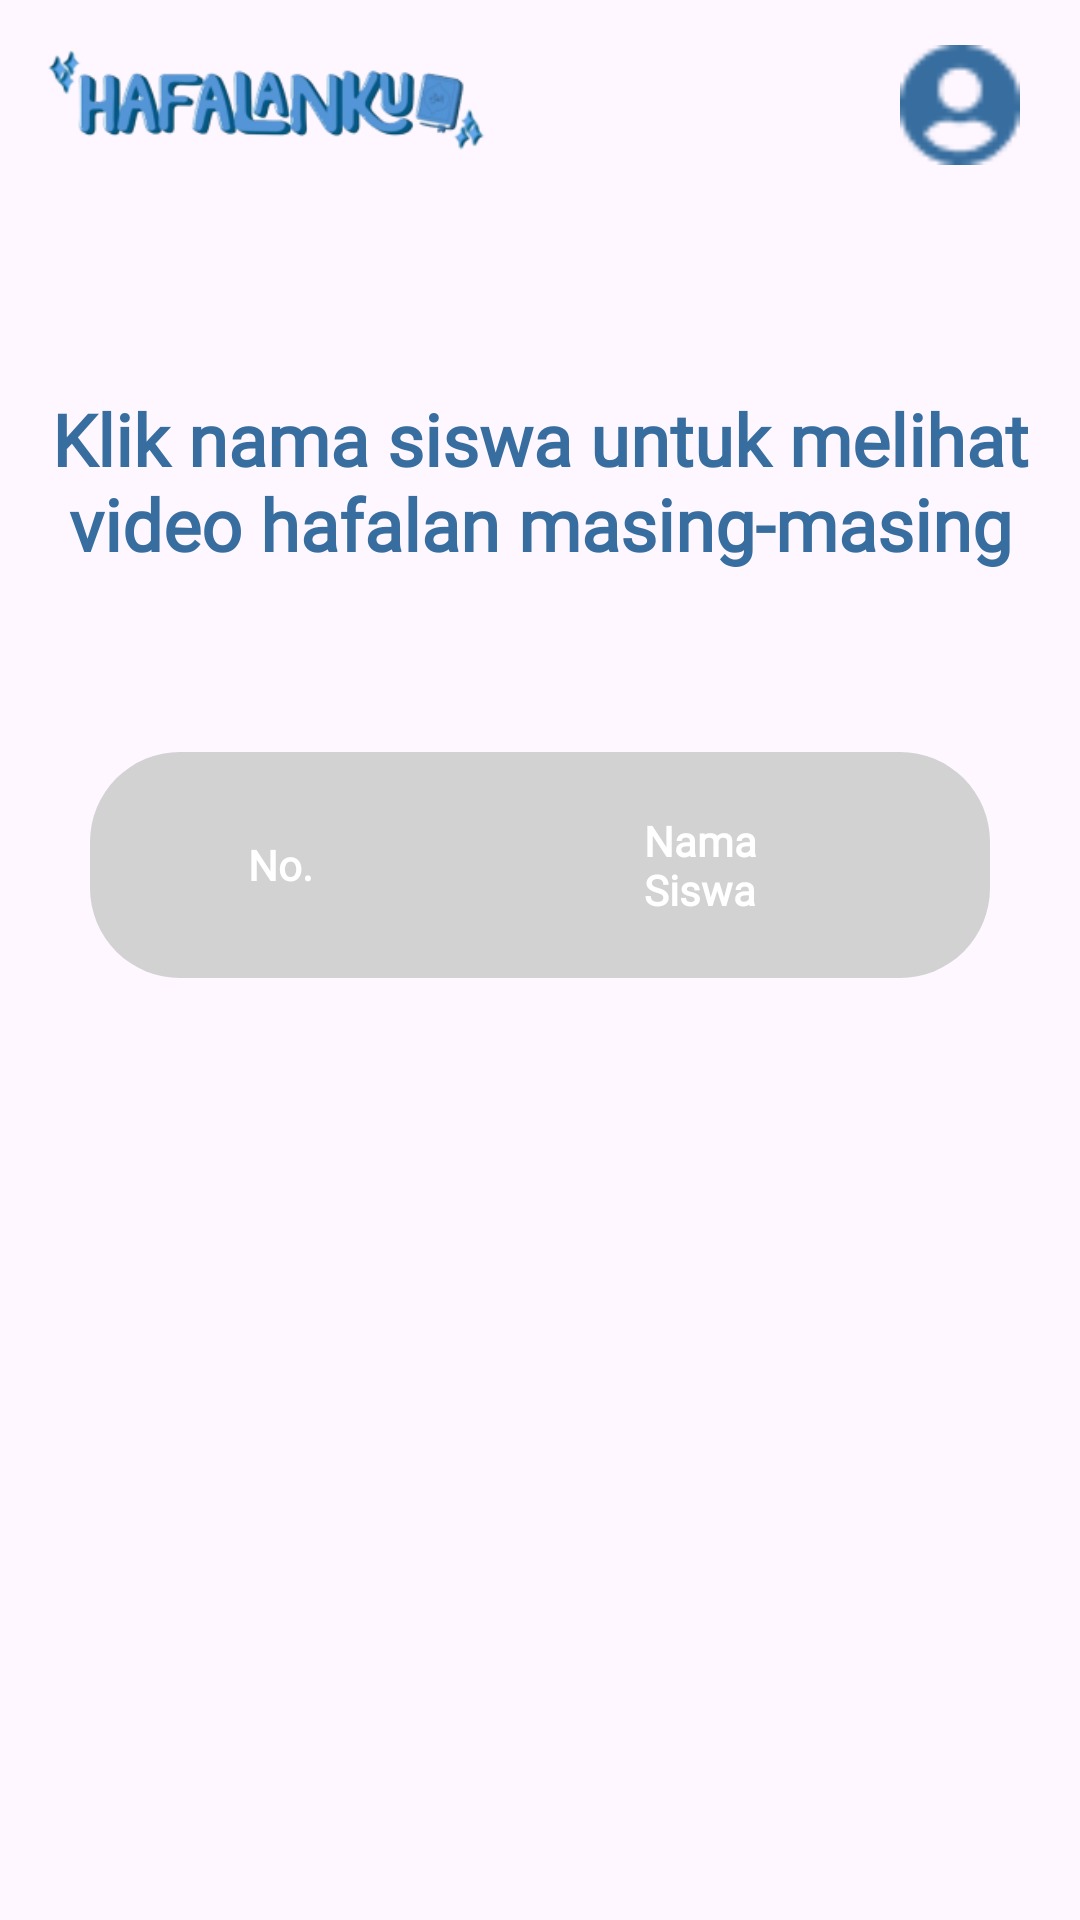

Where icons sit on this 1080px x 1920px app screen, as (x1, y1, x2, y2):
profile: (900, 45, 1020, 165)
